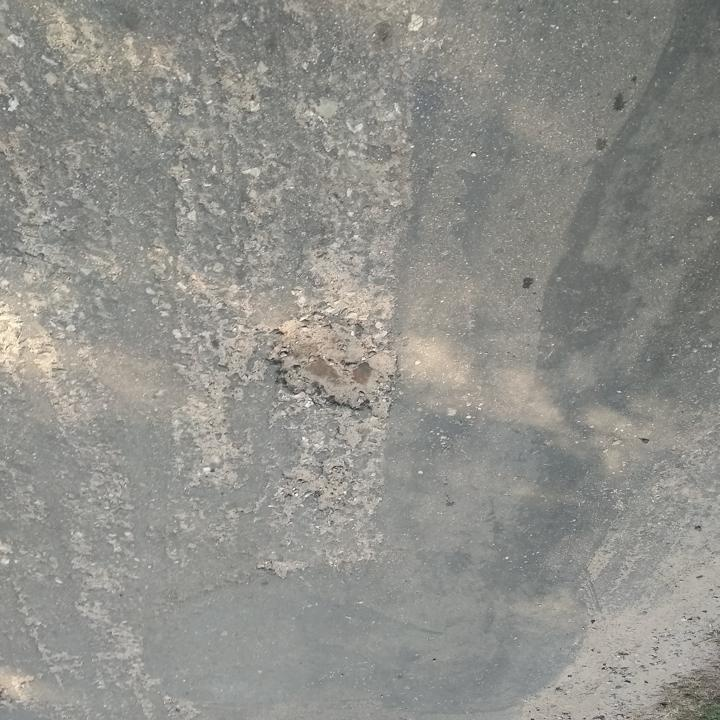pothole: (254, 305, 401, 423)
